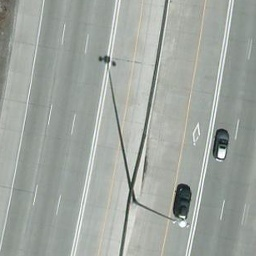car: (172, 185, 192, 215), (213, 132, 228, 162)
